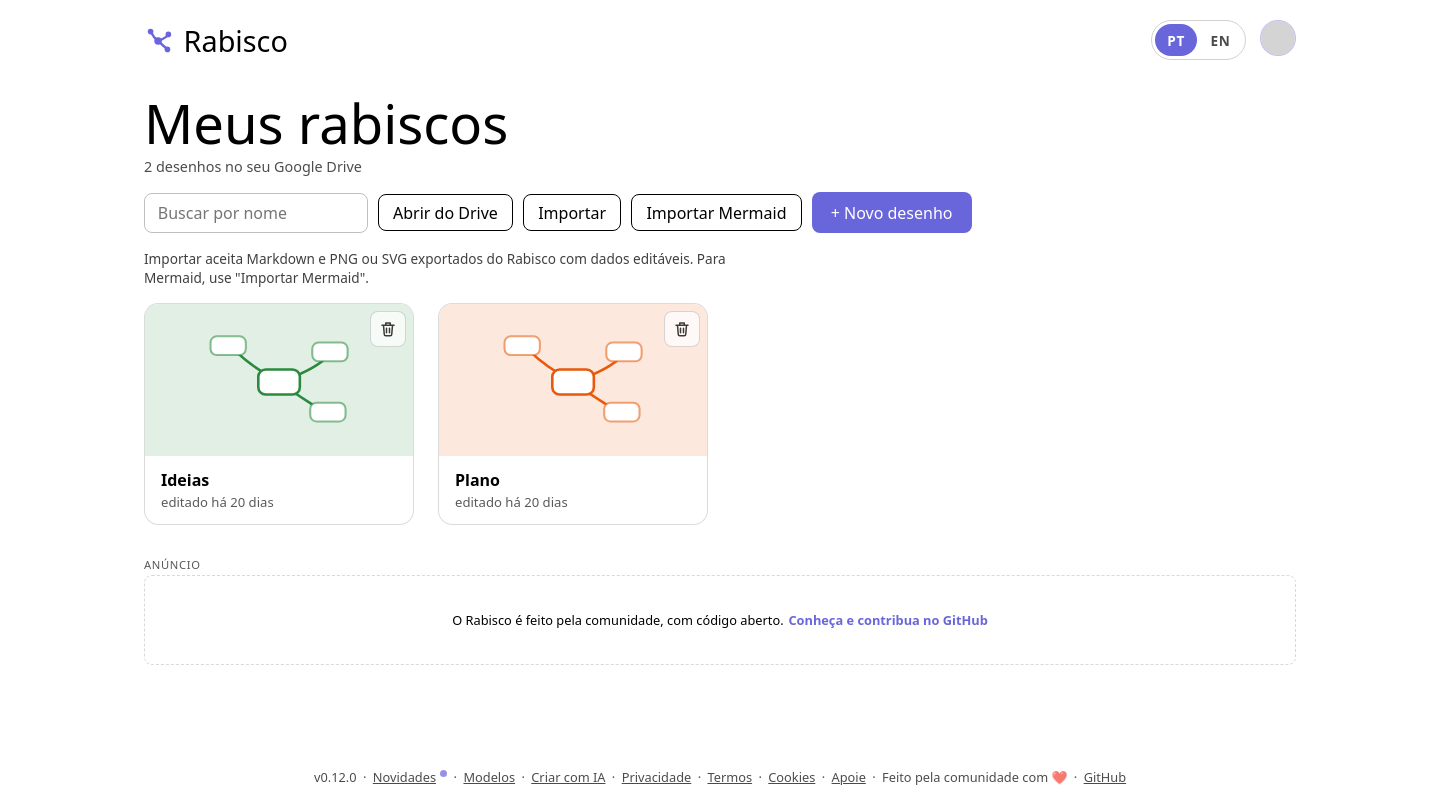
Test case: deleting a drawing › says so and keeps the drawing when it could not be deleted
What coordinates should you click on to do the following:
click the button named "Apagar “Plano”"
I would click on:
 (682, 329)
Its box is top-left (664, 311), bottom-right (700, 347).
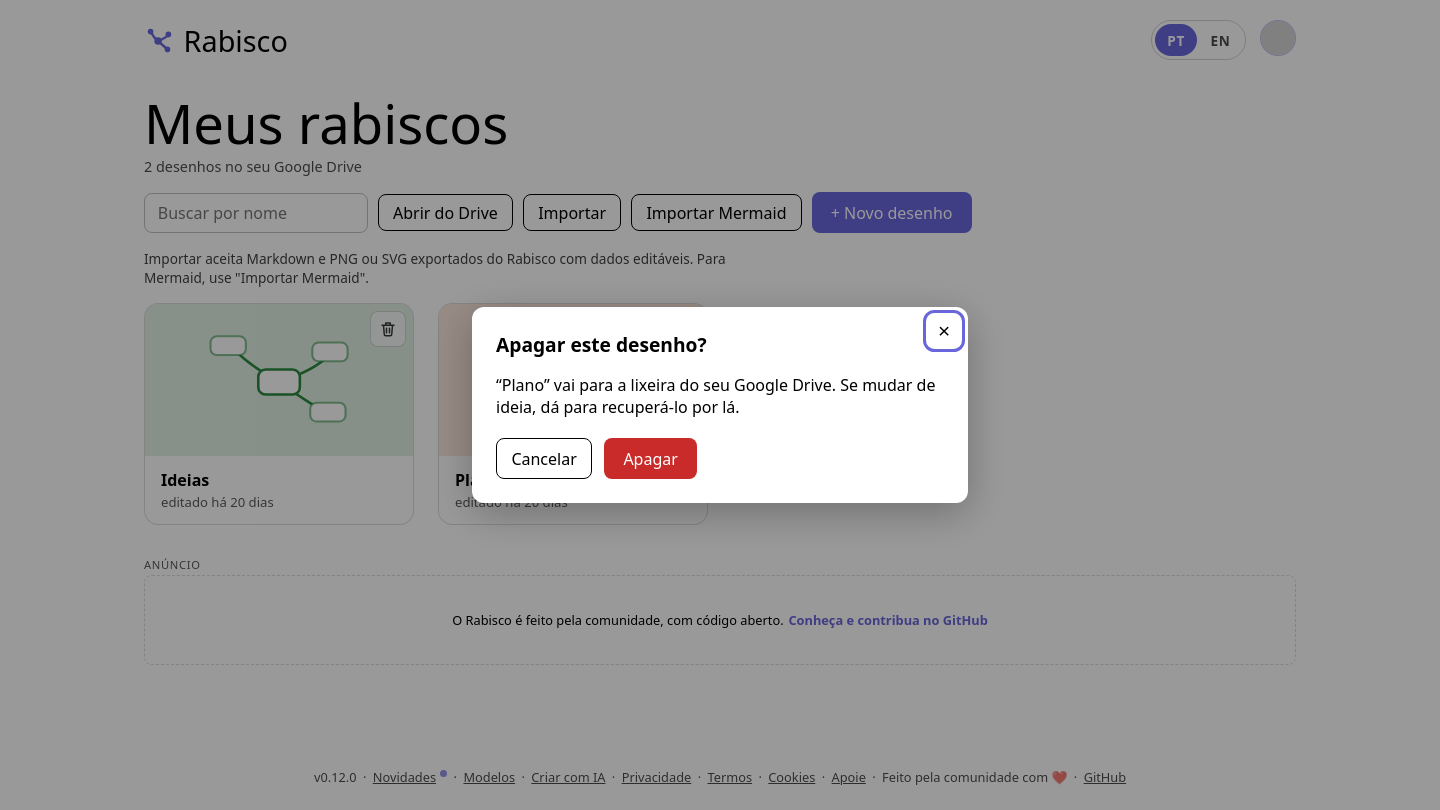
What coordinates should you click on to do the following:
click the button "Apagar"
I would click on:
 (651, 458)
Its box is top-left (604, 438), bottom-right (697, 479).
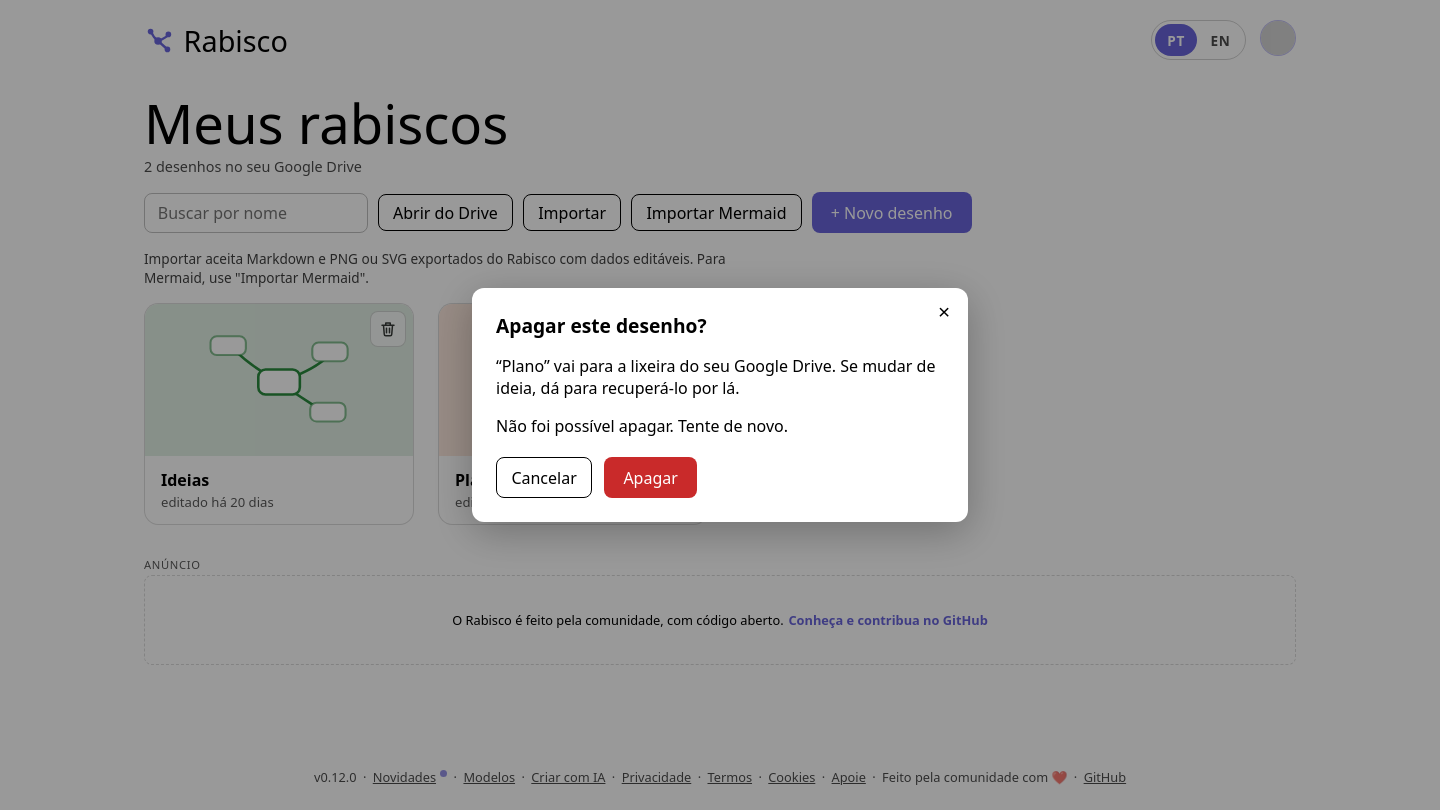
expect the link "Plano editado há 20 dias" is shown: met, box top-left (438, 303), bottom-right (708, 525)
expect the dialog is shown: met, box top-left (472, 288), bottom-right (968, 522)
expect the message reads "Não foi possível apagar. Tente de novo.": met, box top-left (496, 415), bottom-right (788, 437)
